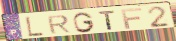2: (147, 5, 171, 28)
F: (121, 7, 144, 30)
G: (72, 12, 97, 34)
L: (24, 16, 45, 37)
R: (46, 14, 72, 35)
T: (98, 10, 117, 31)
